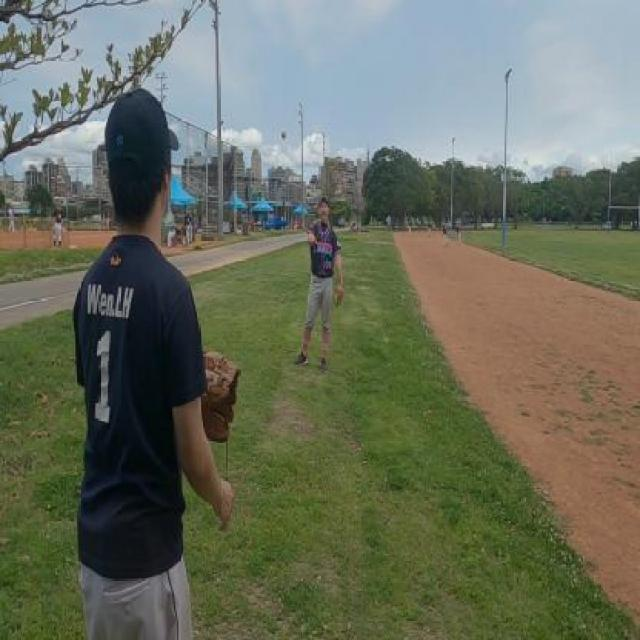baseball: (280, 129, 288, 140)
